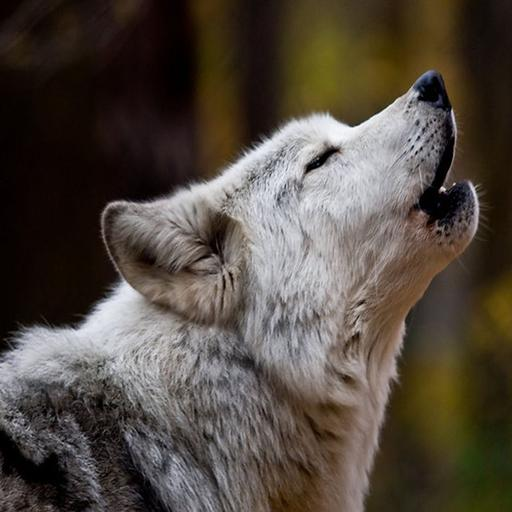Wolf: (0, 64, 489, 512)
